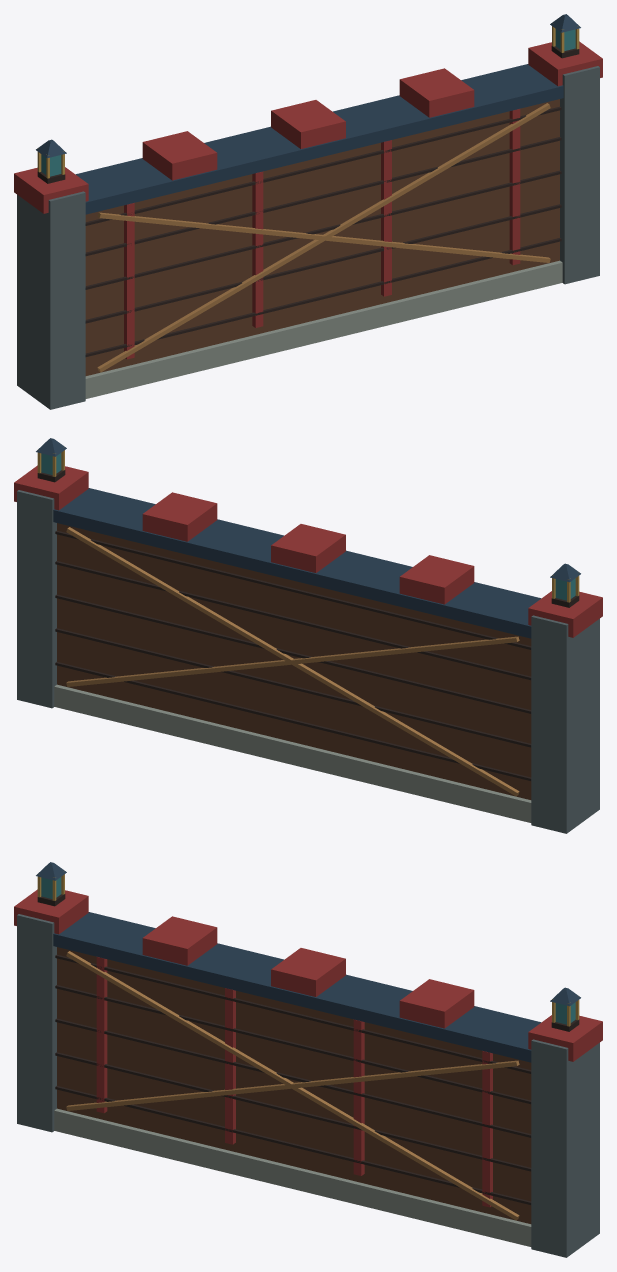
Rendered from PirateCove_BoundaryWall_Showcase.glb.
The picture shows the model from 3 angles, top to bottom: view 1: azimuth 30°, elevation 25°; view 2: azimuth 150°, elevation 25°; view 3: azimuth 330°, elevation 25°; orthographic projection.
Visible parts, largest first — view 1: PirateCove_BoundaryWall_Showcase; view 2: PirateCove_BoundaryWall_Showcase; view 3: PirateCove_BoundaryWall_Showcase.
Boxes of the visible parts, box(x1,y1,x2,y2) form: PirateCove_BoundaryWall_Showcase: box(14, 14, 602, 409); PirateCove_BoundaryWall_Showcase: box(14, 438, 602, 833); PirateCove_BoundaryWall_Showcase: box(14, 862, 602, 1257).
Size of the model in its own units: 8.7 by 3.76 by 0.9.
